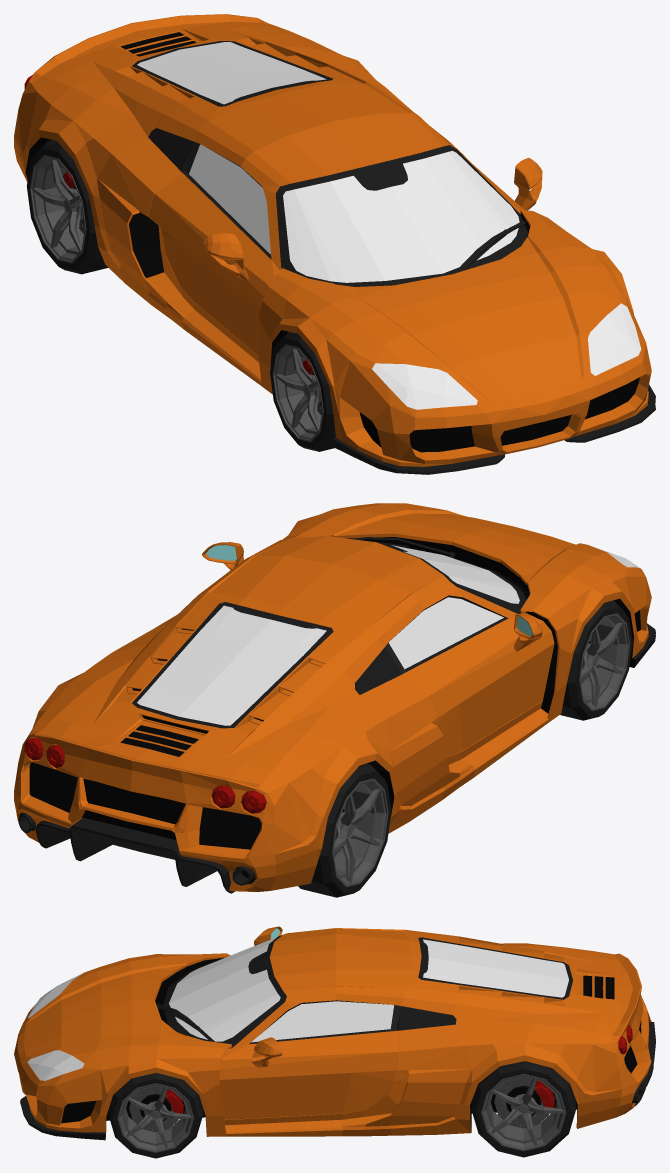
Rendered from LP_Veh_Sports_32.fbx.
3 renders of one model, top to bottom at view 1: azimuth 30°, elevation 25°; view 2: azimuth 150°, elevation 25°; view 3: azimuth 270°, elevation 25°, orthographic. The views are drawn at different scales.
Parts seen in each view (by area): view 1: LP_Veh_Sports_32, LP_Veh_Sports_Glass_001_32, LP_Veh_Sports_Wheel_004_32, LP_Veh_Sports_Glass_002_32, LP_Veh_Sports_Wheel_002_32; view 2: LP_Veh_Sports_32, LP_Veh_Sports_Glass_001_32, LP_Veh_Sports_Wheel_004_32, LP_Veh_Sports_Wheel_002_32; view 3: LP_Veh_Sports_32, LP_Veh_Sports_Glass_001_32, LP_Veh_Sports_Wheel_003_32, LP_Veh_Sports_Wheel_001_32, LP_Veh_Sports_Glass_002_32, LP_Veh_Sports_Brake disk_003_32, LP_Veh_Sports_Brake disk_001_32.
Boxes of the visible parts, left/top/right/bottom form: LP_Veh_Sports_32: left=14, top=14, right=655, bottom=474; LP_Veh_Sports_Glass_001_32: left=137, top=42, right=519, bottom=282; LP_Veh_Sports_Wheel_004_32: left=26, top=140, right=108, bottom=274; LP_Veh_Sports_Glass_002_32: left=372, top=303, right=641, bottom=409; LP_Veh_Sports_Wheel_002_32: left=270, top=332, right=335, bottom=451; LP_Veh_Sports_32: left=14, top=503, right=655, bottom=893; LP_Veh_Sports_Glass_001_32: left=137, top=545, right=519, bottom=725; LP_Veh_Sports_Wheel_004_32: left=298, top=763, right=391, bottom=897; LP_Veh_Sports_Wheel_002_32: left=560, top=600, right=632, bottom=720; LP_Veh_Sports_32: left=14, top=926, right=655, bottom=1140; LP_Veh_Sports_Glass_001_32: left=169, top=937, right=568, bottom=1042; LP_Veh_Sports_Wheel_003_32: left=471, top=1061, right=575, bottom=1157; LP_Veh_Sports_Wheel_001_32: left=108, top=1073, right=202, bottom=1158; LP_Veh_Sports_Glass_002_32: left=27, top=973, right=84, bottom=1080; LP_Veh_Sports_Brake disk_003_32: left=494, top=1077, right=554, bottom=1128; LP_Veh_Sports_Brake disk_001_32: left=129, top=1086, right=183, bottom=1132.
Bounding box in the file's own units: 2.52 × 1.47 × 5.53.
